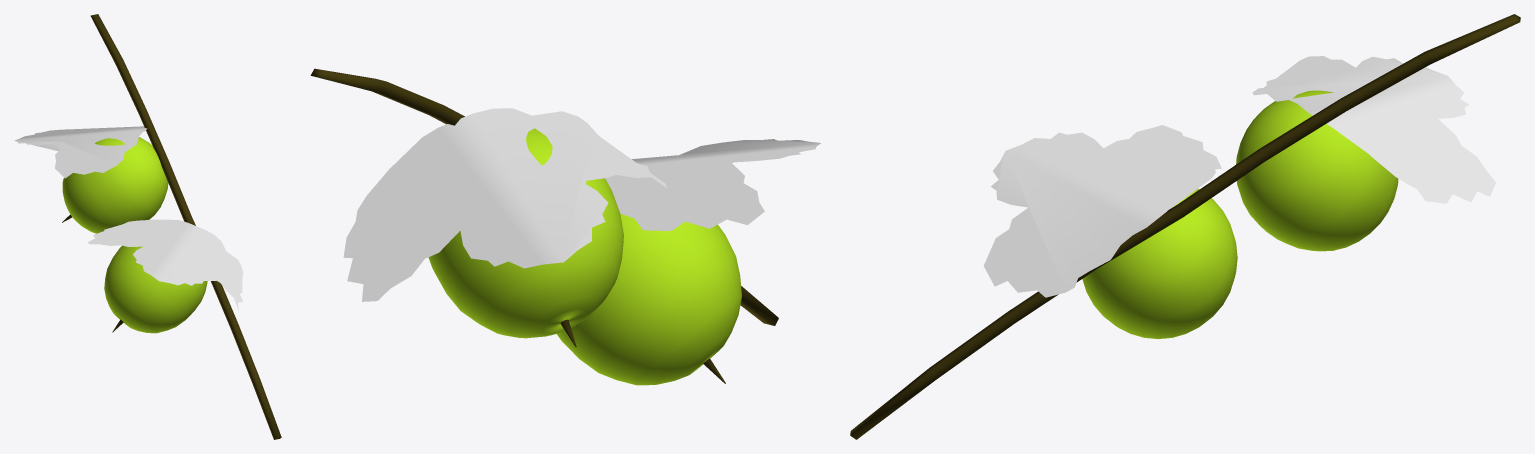
Rendered from gooseberry.fbx.
3 views of the same model, side by side, from view 1: azimuth 30°, elevation 25°; view 2: azimuth 150°, elevation 25°; view 3: azimuth 270°, elevation 25° (orthographic). The views are drawn at different scales.
Parts seen in each view (by area): view 1: Grid.001; view 2: Grid.001; view 3: Grid.001.
Part boxes in pixels (x1,y1,x2,y2): Grid.001: (14,14,281,439); Grid.001: (310,68,820,385); Grid.001: (850,14,1520,439).
Bounding box in the file's own units: 301 × 610 × 845.
